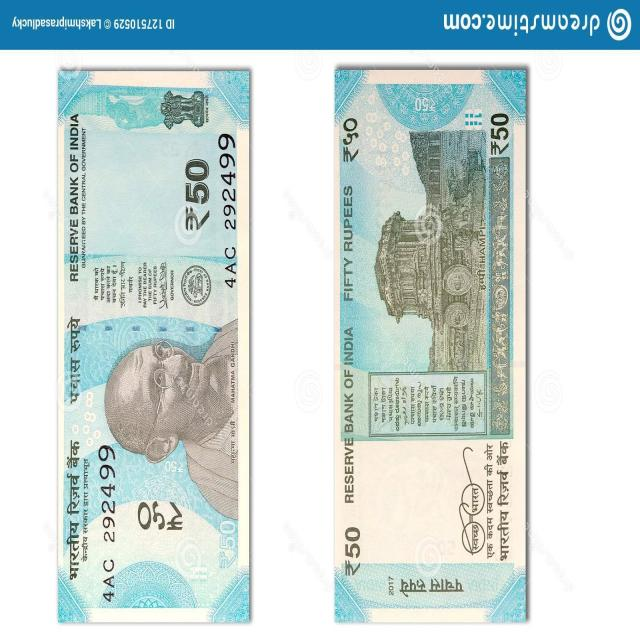50IndianRupees: (335, 61, 524, 624)
